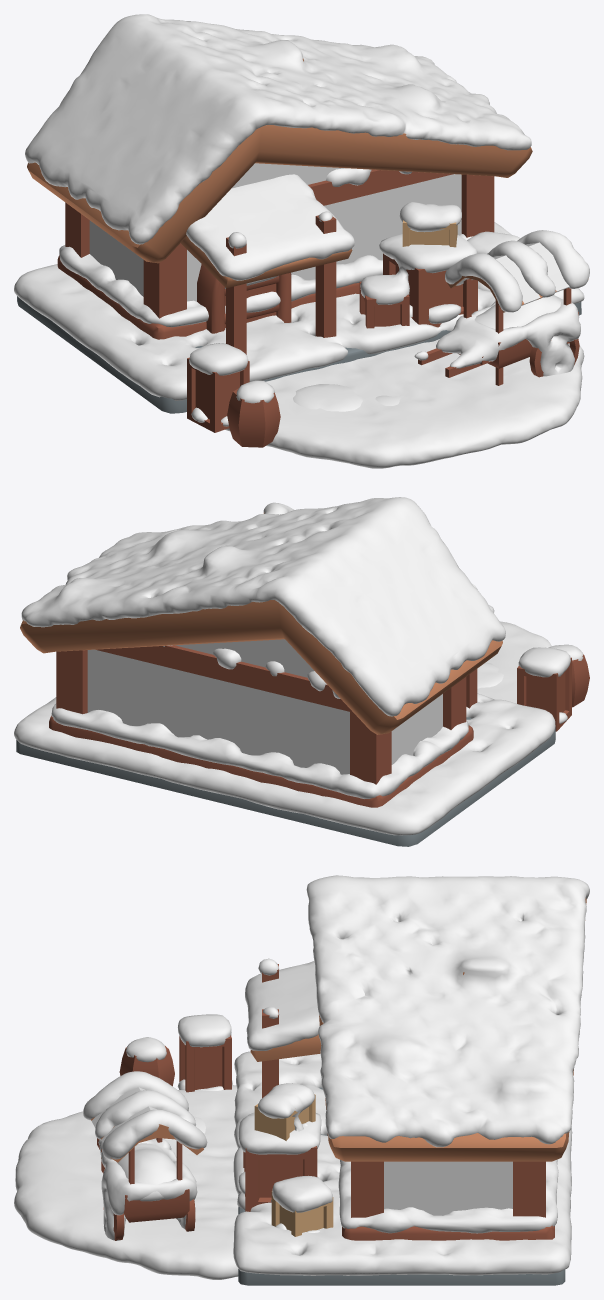
Rendered from market.fbx.
The picture shows the model from 3 angles, top to bottom: view 1: azimuth 30°, elevation 25°; view 2: azimuth 150°, elevation 25°; view 3: azimuth 270°, elevation 25°; orthographic projection. The views are drawn at different scales.
Parts seen in each view (by area): view 1: SnowBall.001, SnowBall.002, market.002, SnowBall.004, SnowBall.003, market.003, market.001, market.004, market; view 2: SnowBall.001, market.001, SnowBall.003, market.002, market.003, SnowBall.004, market.004, SnowBall.002; view 3: SnowBall.001, SnowBall.002, SnowBall.003, market.002, SnowBall.004, market.003, market.001, market.004, market.
Part boxes in pixels (<box>): SnowBall.001: <box>25,14,589,328</box>; SnowBall.002: <box>225,202,584,468</box>; market.002: <box>57,169,579,447</box>; SnowBall.004: <box>59,168,580,426</box>; SnowBall.003: <box>14,222,584,400</box>; market.003: <box>27,58,556,312</box>; market.001: <box>89,163,569,305</box>; market.004: <box>17,296,581,413</box>; market: <box>402,220,457,247</box>; SnowBall.001: <box>21,497,505,716</box>; market.001: <box>87,639,442,774</box>; SnowBall.003: <box>14,693,555,835</box>; market.002: <box>49,645,589,807</box>; market.003: <box>20,512,502,734</box>; SnowBall.004: <box>51,583,583,798</box>; market.004: <box>16,717,555,846</box>; SnowBall.002: <box>477,621,551,703</box>; SnowBall.001: <box>83,875,589,1201</box>; SnowBall.002: <box>14,1083,332,1279</box>; SnowBall.003: <box>233,1051,572,1275</box>; market.002: <box>97,964,554,1240</box>; SnowBall.004: <box>98,958,558,1240</box>; market.003: <box>91,898,586,1162</box>; market.001: <box>91,1087,512,1215</box>; market.004: <box>238,1087,565,1285</box>; market: <box>254,1094,333,1236</box>.
Bounding box in the file's own units: 151 × 89.34 × 170.
